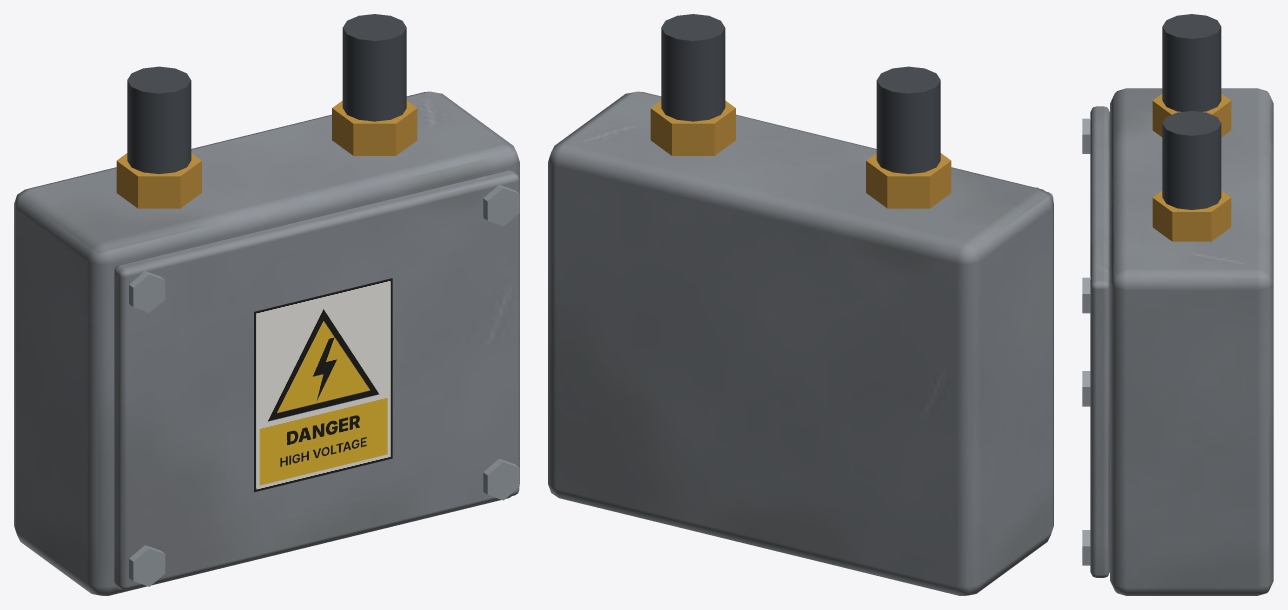
Rendered from JunctionBox.glb.
The picture shows the model from 3 angles, left to right: view 1: azimuth 30°, elevation 25°; view 2: azimuth 150°, elevation 25°; view 3: azimuth 270°, elevation 25°; orthographic projection. The views are drawn at different scales.
Parts seen in each view (by area): view 1: JunctionBox_Body; view 2: JunctionBox_Body; view 3: JunctionBox_Body.
Part boxes in pixels (box(x1,y1,x2,y2)): JunctionBox_Body: box(14, 14, 519, 595); JunctionBox_Body: box(548, 14, 1053, 595); JunctionBox_Body: box(1082, 14, 1273, 595).
Bounding box in the file's own units: 0.28 × 0.29 × 0.117.
Materials: 5 (2 with a texture image).
